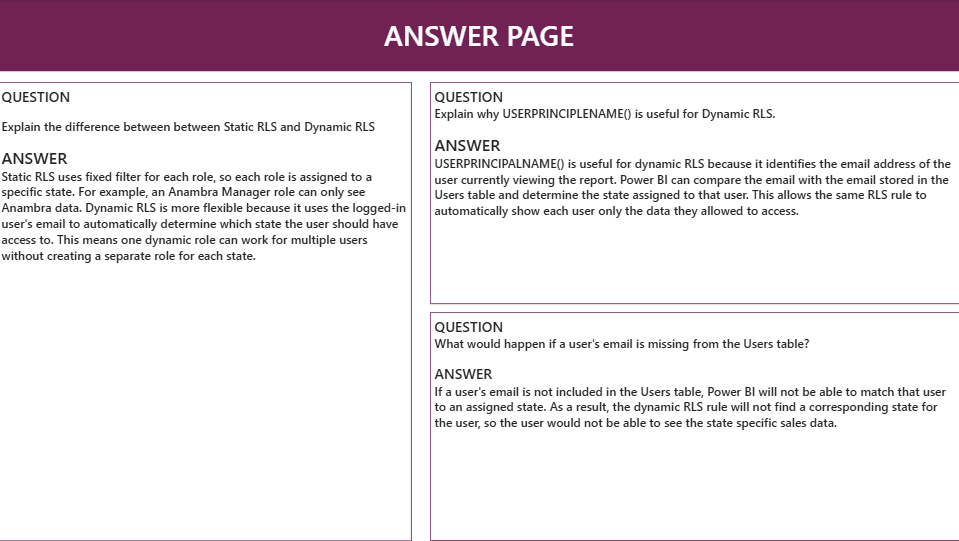

Layout of this report page (visuals, bound fields, positions):
{"tool":"powerbi","page":{"name":"Answer Page","canvas":[1280,720],"ordinal":1},"visuals":[{"type":"textbox","box":[0,0,1280,95.7],"z":0},{"type":"textbox","box":[0,110.1,550.5,609.7],"z":1},{"type":"textbox","box":[575.3,110.1,704.7,294.5],"z":2},{"type":"textbox","box":[575.3,415.7,704.7,304.2],"z":3}]}

Visuals, with their boxes in screenshot pixels (x1, y1, x2, y2), scaled from the page's 1280x720 canvas onto the 959x541 screenshot:
textbox: [left=0, top=0, right=958, bottom=72]
textbox: [left=0, top=83, right=412, bottom=540]
textbox: [left=431, top=83, right=958, bottom=304]
textbox: [left=431, top=312, right=958, bottom=540]
